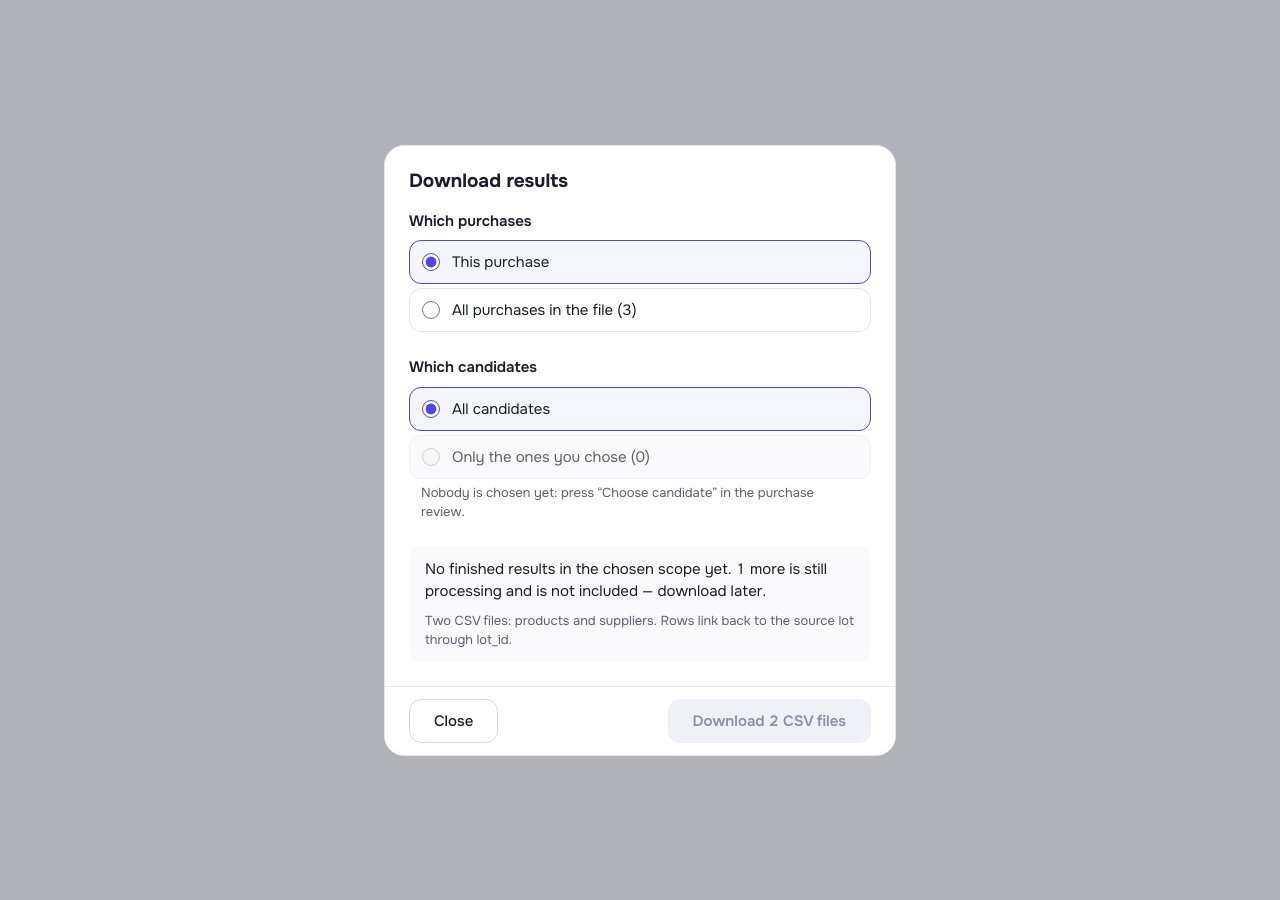
it: the export dialog › warns when nothing is ready or nothing was chosen, and reports failures
Expected: the button "Download 2 CSV files" is disabled, 668,698 -> 871,742
Click the radio button labelled "All purchases in the file (3)": point(431, 310) 422,301 -> 440,319
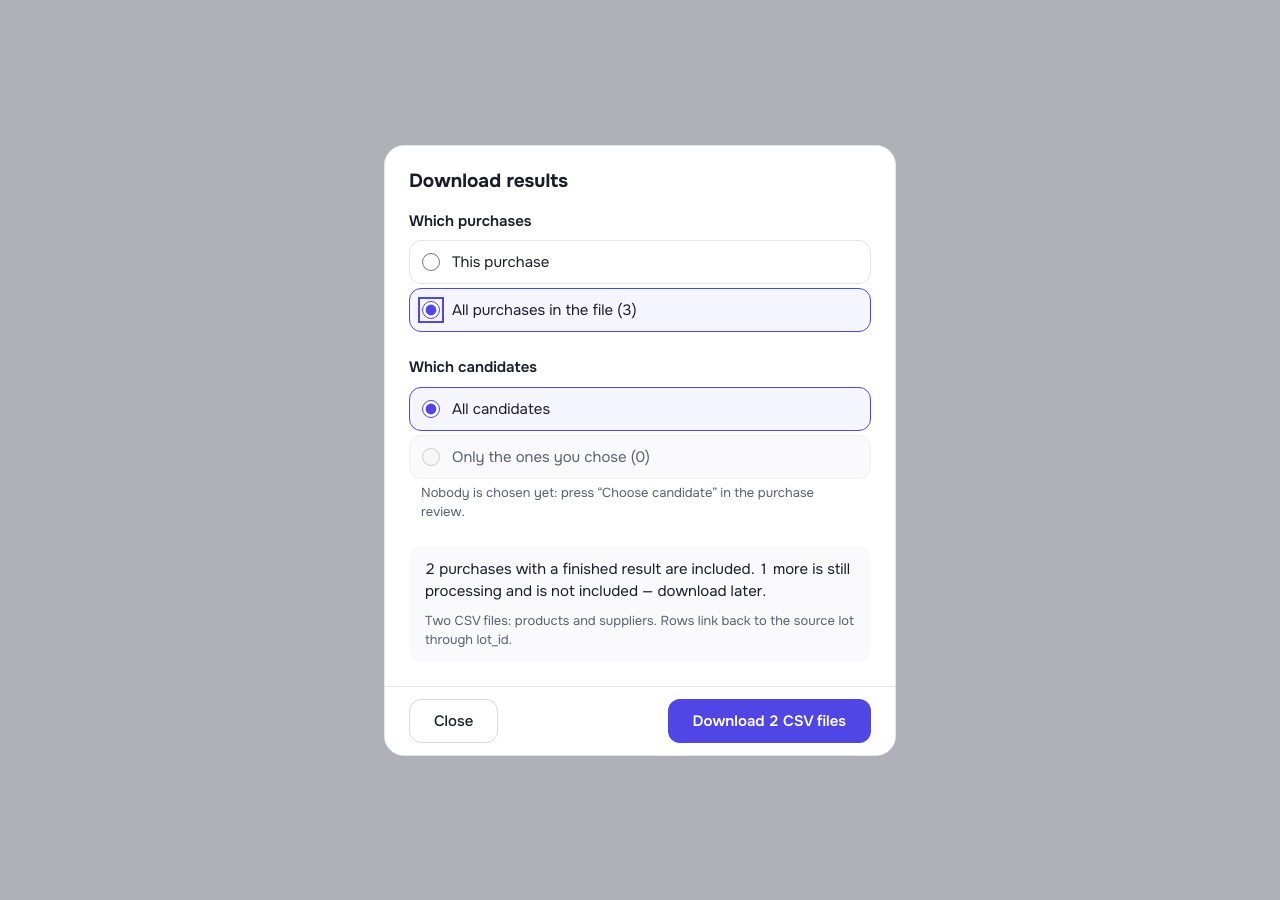
Expected: the radio button labelled "Only the ones you chose (0)" is disabled, 422,447 -> 440,465
Expected: the radio button labelled "All candidates" is checked, 422,399 -> 440,417
Click the button "Download 2 CSV files": point(769, 720) 668,698 -> 871,742
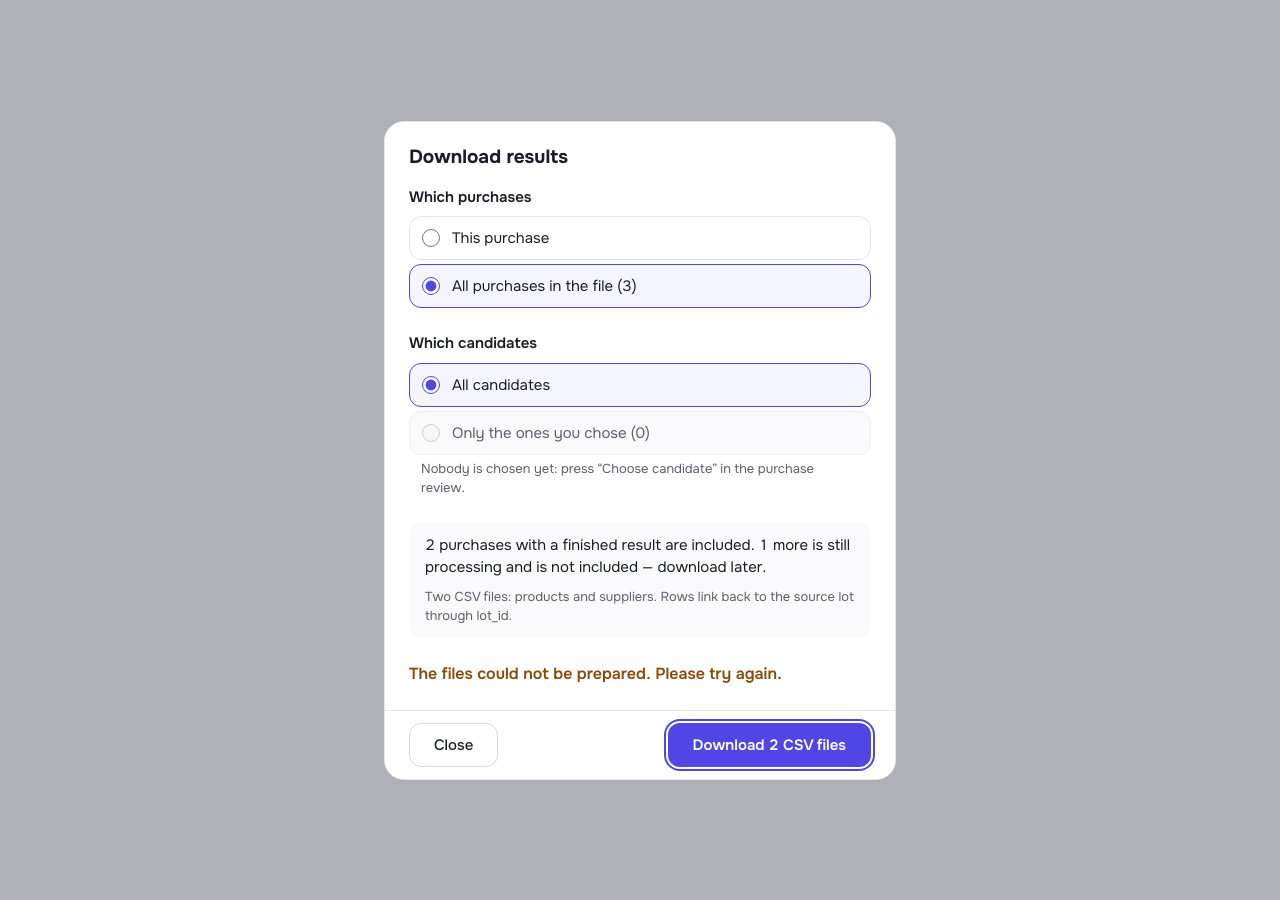
Result: the message reads "The files could not be prepared. Please try again." at 409,662 -> 782,683
